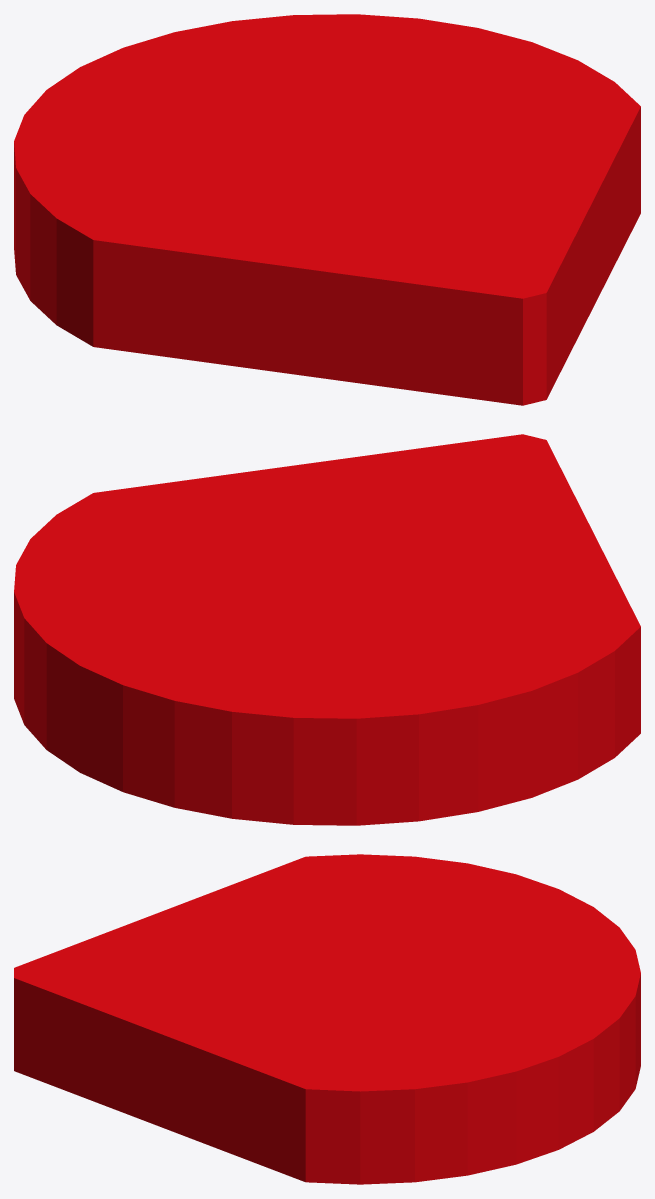
The model's file is pin.gltf.
3 views of the same model, one above another, from view 1: azimuth 30°, elevation 25°; view 2: azimuth 150°, elevation 25°; view 3: azimuth 270°, elevation 25° (orthographic). The views are drawn at different scales.
Visible parts, largest first — view 1: Cylinder; view 2: Cylinder; view 3: Cylinder.
Boxes of the visible parts, x1=… form: Cylinder: x1=14, y1=14, x2=640, y2=405; Cylinder: x1=14, y1=434, x2=640, y2=825; Cylinder: x1=14, y1=854, x2=640, y2=1184.
Bounding box in the file's own units: 2 × 0.3662 × 2.23.
